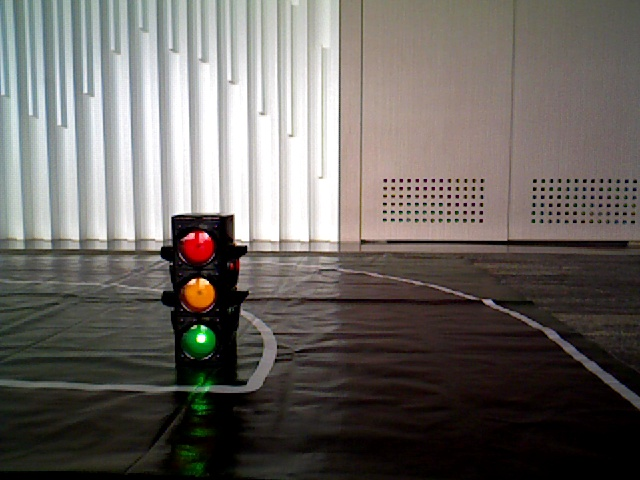green: (172, 223, 229, 370)
